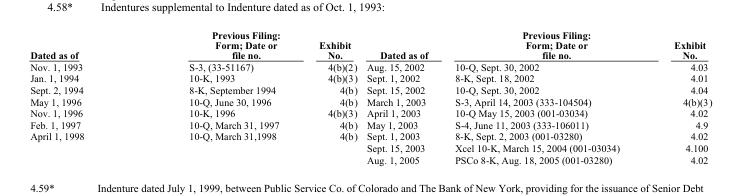table: (29, 28, 711, 164)
table column: (440, 28, 646, 164), (135, 28, 299, 164), (29, 28, 135, 164), (361, 28, 440, 164), (646, 28, 711, 164), (299, 28, 361, 164)
table column header: (29, 28, 711, 60)
table row: (29, 28, 711, 60), (29, 60, 711, 72), (29, 83, 711, 95), (29, 106, 711, 118), (29, 118, 711, 130), (29, 141, 711, 153), (29, 72, 711, 83), (29, 95, 711, 106), (29, 130, 711, 141), (29, 153, 711, 164)
